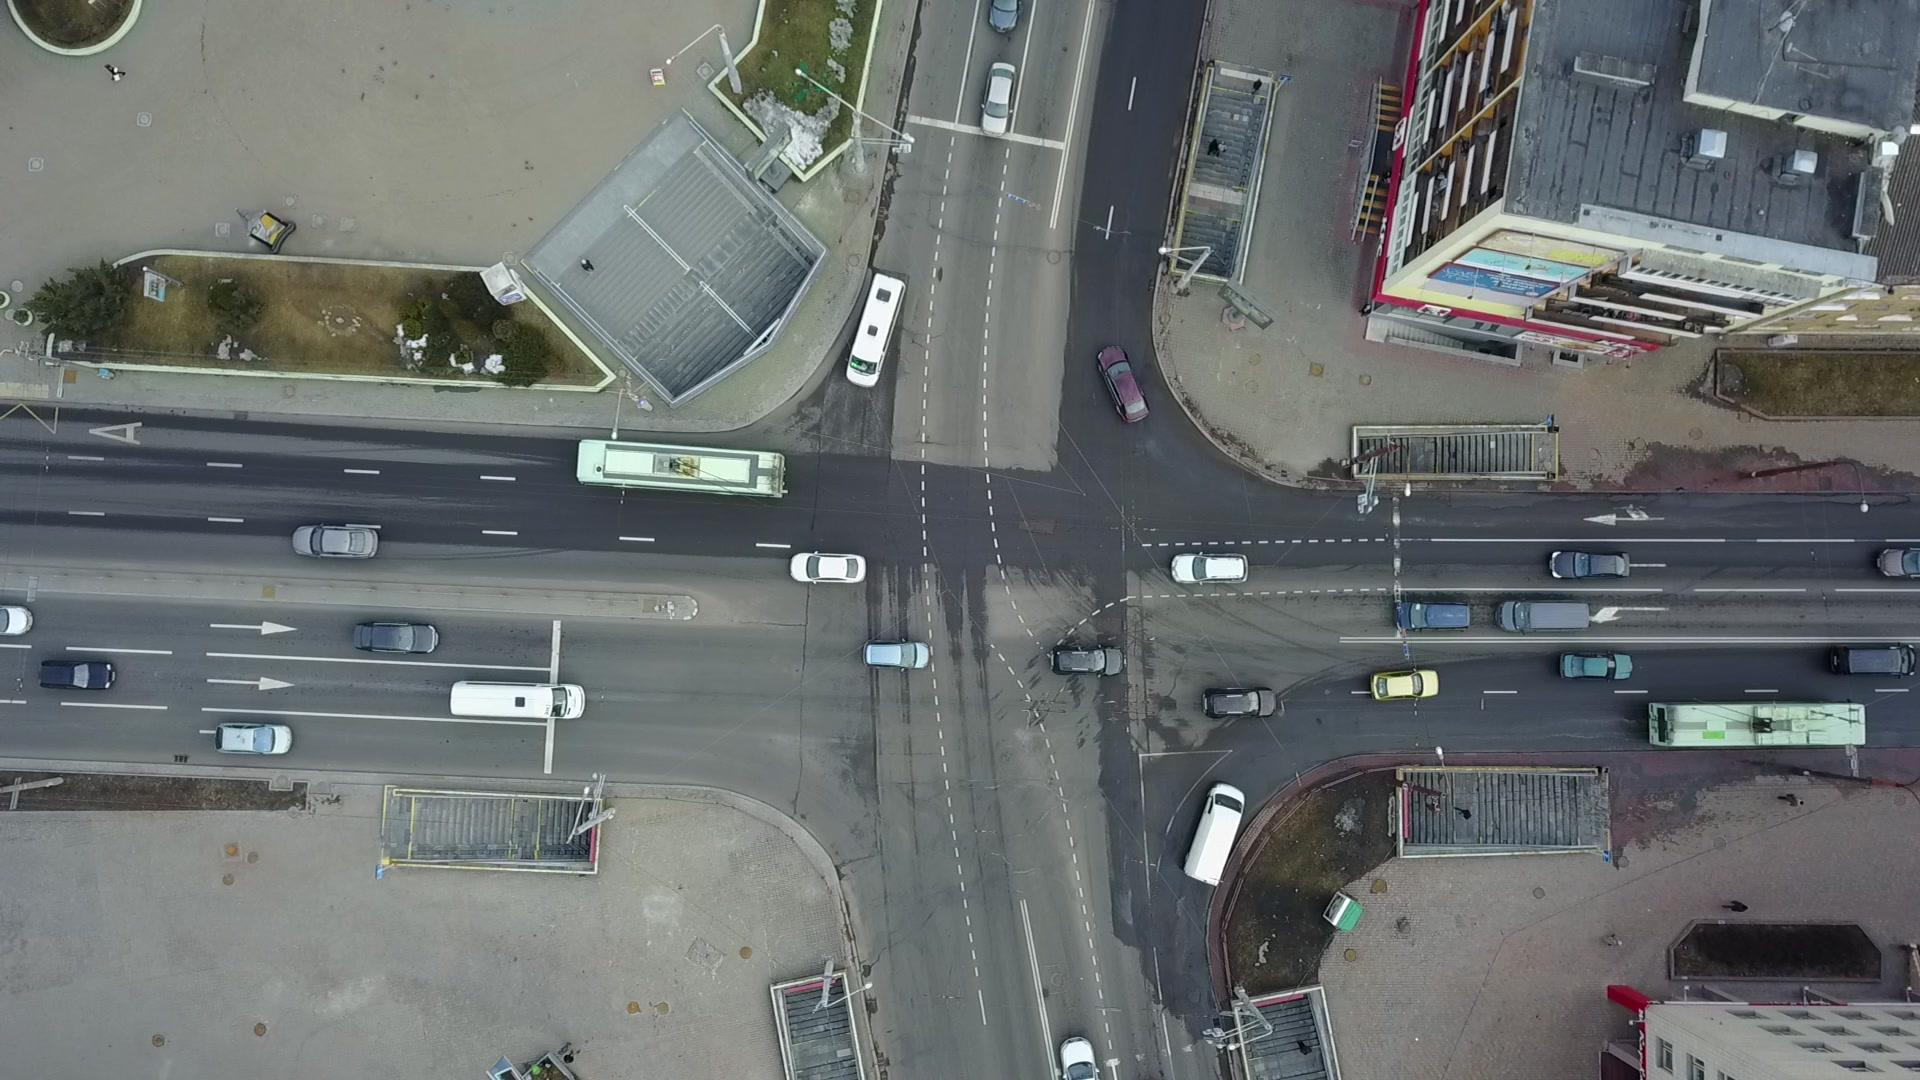car: (1093, 343, 1151, 425), (293, 522, 380, 560), (349, 621, 440, 655), (978, 61, 1017, 137), (214, 721, 295, 757), (1200, 684, 1278, 720), (1548, 549, 1631, 582), (1170, 551, 1249, 585), (789, 551, 866, 585), (1391, 599, 1472, 632), (37, 659, 117, 691), (860, 637, 931, 673), (1050, 644, 1124, 678), (1557, 650, 1633, 683), (1369, 667, 1440, 700)
